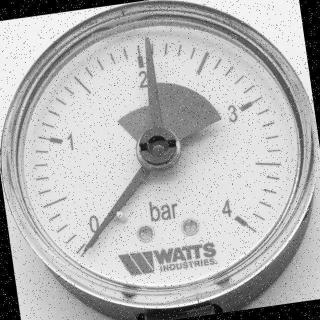gauge: (0, 0, 320, 318), (135, 124, 181, 168), (218, 197, 254, 239), (76, 219, 107, 264), (79, 240, 94, 256), (142, 33, 154, 49)
